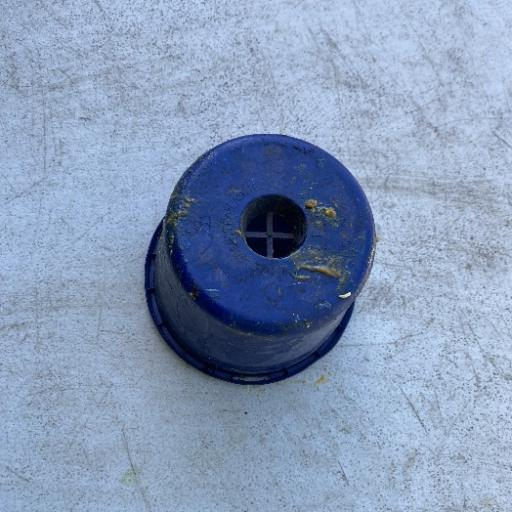Plastic: (141, 130, 379, 387)
